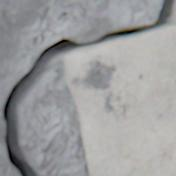brick: (64, 25, 175, 175)
crack: (0, 0, 175, 175)
